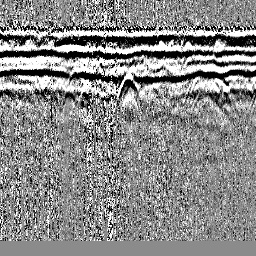cavity: (116, 72, 141, 101)
